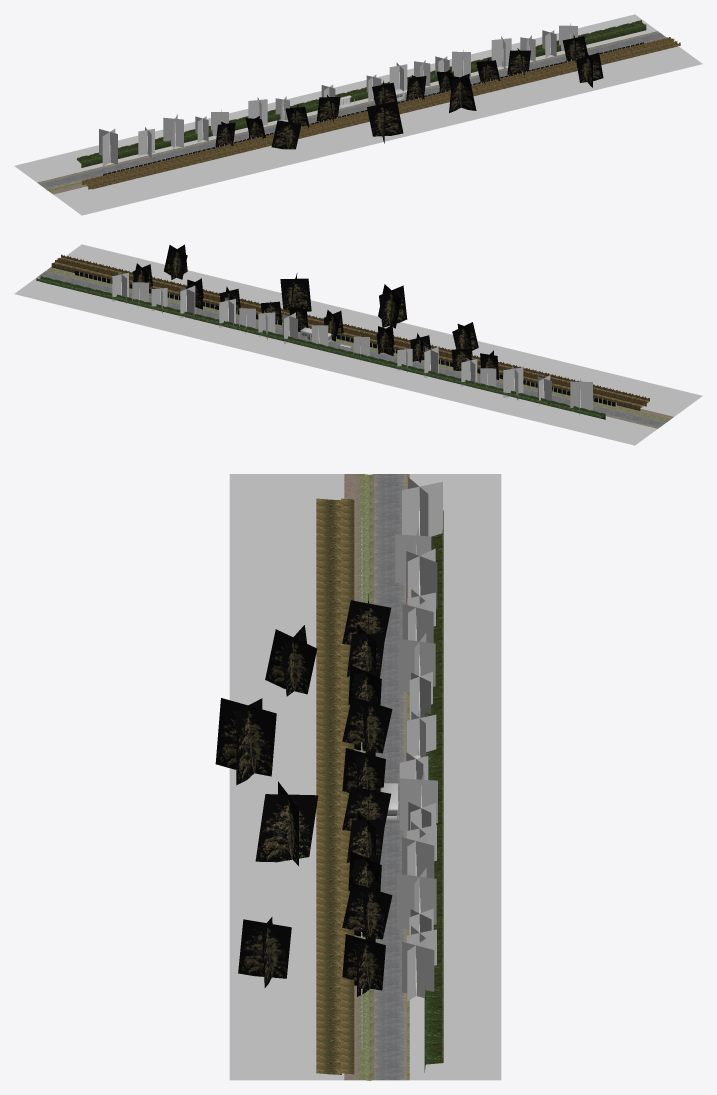
File: Stop_01.fbx
3 views of the same model, one above another, from view 1: azimuth 30°, elevation 25°; view 2: azimuth 150°, elevation 25°; view 3: azimuth 270°, elevation 25° (orthographic). The views are drawn at different scales.
Visible parts, largest first — view 1: Ground, Wheat_01, Wheat, Grass_02, Tree_004, Tree_011, Fence_01, Tree_002, Tree.001, Tree_01_007, Tree_01_005, Tree_01_012 (+14 smaller); view 2: Ground, Grass_02, Wheat_01, Wheat, Tree_004, Fence_01, Tree_011, Tree.001, Tree_01_007, Tree_002, Tree_01_005, Tree (+14 smaller); view 3: Ground, Wheat_01, Grass_02, Wheat, Tree_004, Tree_011, Tree.001, Tree_002, Tree_01_007, Tree_007, Tree, Tree_009 (+17 smaller).
Boxes of the visible parts, x1=… form: Ground: x1=14, y1=14, x2=702, y2=215; Wheat_01: x1=85, y1=41, x2=680, y2=189; Wheat: x1=82, y1=37, x2=674, y2=184; Grass_02: x1=76, y1=20, x2=646, y2=167; Tree_004: x1=367, y1=98, x2=403, y2=143; Tree_011: x1=448, y1=73, x2=476, y2=112; Fence_01: x1=102, y1=45, x2=630, y2=175; Tree_002: x1=271, y1=120, x2=301, y2=149; Tree.001: x1=576, y1=52, x2=603, y2=87; Tree_01_007: x1=99, y1=129, x2=117, y2=166; Tree_01_005: x1=163, y1=114, x2=183, y2=149; Tree_01_012: x1=491, y1=36, x2=511, y2=70; Ground: x1=14, y1=244, x2=702, y2=445; Grass_02: x1=36, y1=276, x2=605, y2=419; Wheat_01: x1=57, y1=254, x2=649, y2=406; Wheat: x1=51, y1=259, x2=643, y2=410; Tree_004: x1=378, y1=284, x2=407, y2=328; Fence_01: x1=88, y1=274, x2=616, y2=406; Tree_011: x1=280, y1=273, x2=311, y2=311; Tree.001: x1=164, y1=244, x2=187, y2=279; Tree_01_007: x1=570, y1=378, x2=592, y2=415; Tree_002: x1=452, y1=322, x2=478, y2=355; Tree_01_005: x1=503, y1=365, x2=523, y2=400; Tree: x1=376, y1=325, x2=394, y2=355; Ground: x1=229, y1=474, x2=501, y2=1080; Wheat_01: x1=316, y1=498, x2=341, y2=1074; Grass_02: x1=424, y1=510, x2=443, y2=1072; Wheat: x1=341, y1=498, x2=354, y2=1074; Tree_004: x1=215, y1=698, x2=276, y2=785; Tree_011: x1=255, y1=781, x2=318, y2=865; Tree.001: x1=238, y1=917, x2=291, y2=987; Tree_002: x1=265, y1=625, x2=316, y2=696; Tree_01_007: x1=402, y1=477, x2=442, y2=536; Tree_007: x1=342, y1=878, x2=392, y2=939; Tree: x1=342, y1=692, x2=392, y2=753; Tree_009: x1=342, y1=934, x2=385, y2=996.
Size of the model in its own units: 25235 by 1510 by 5027.
